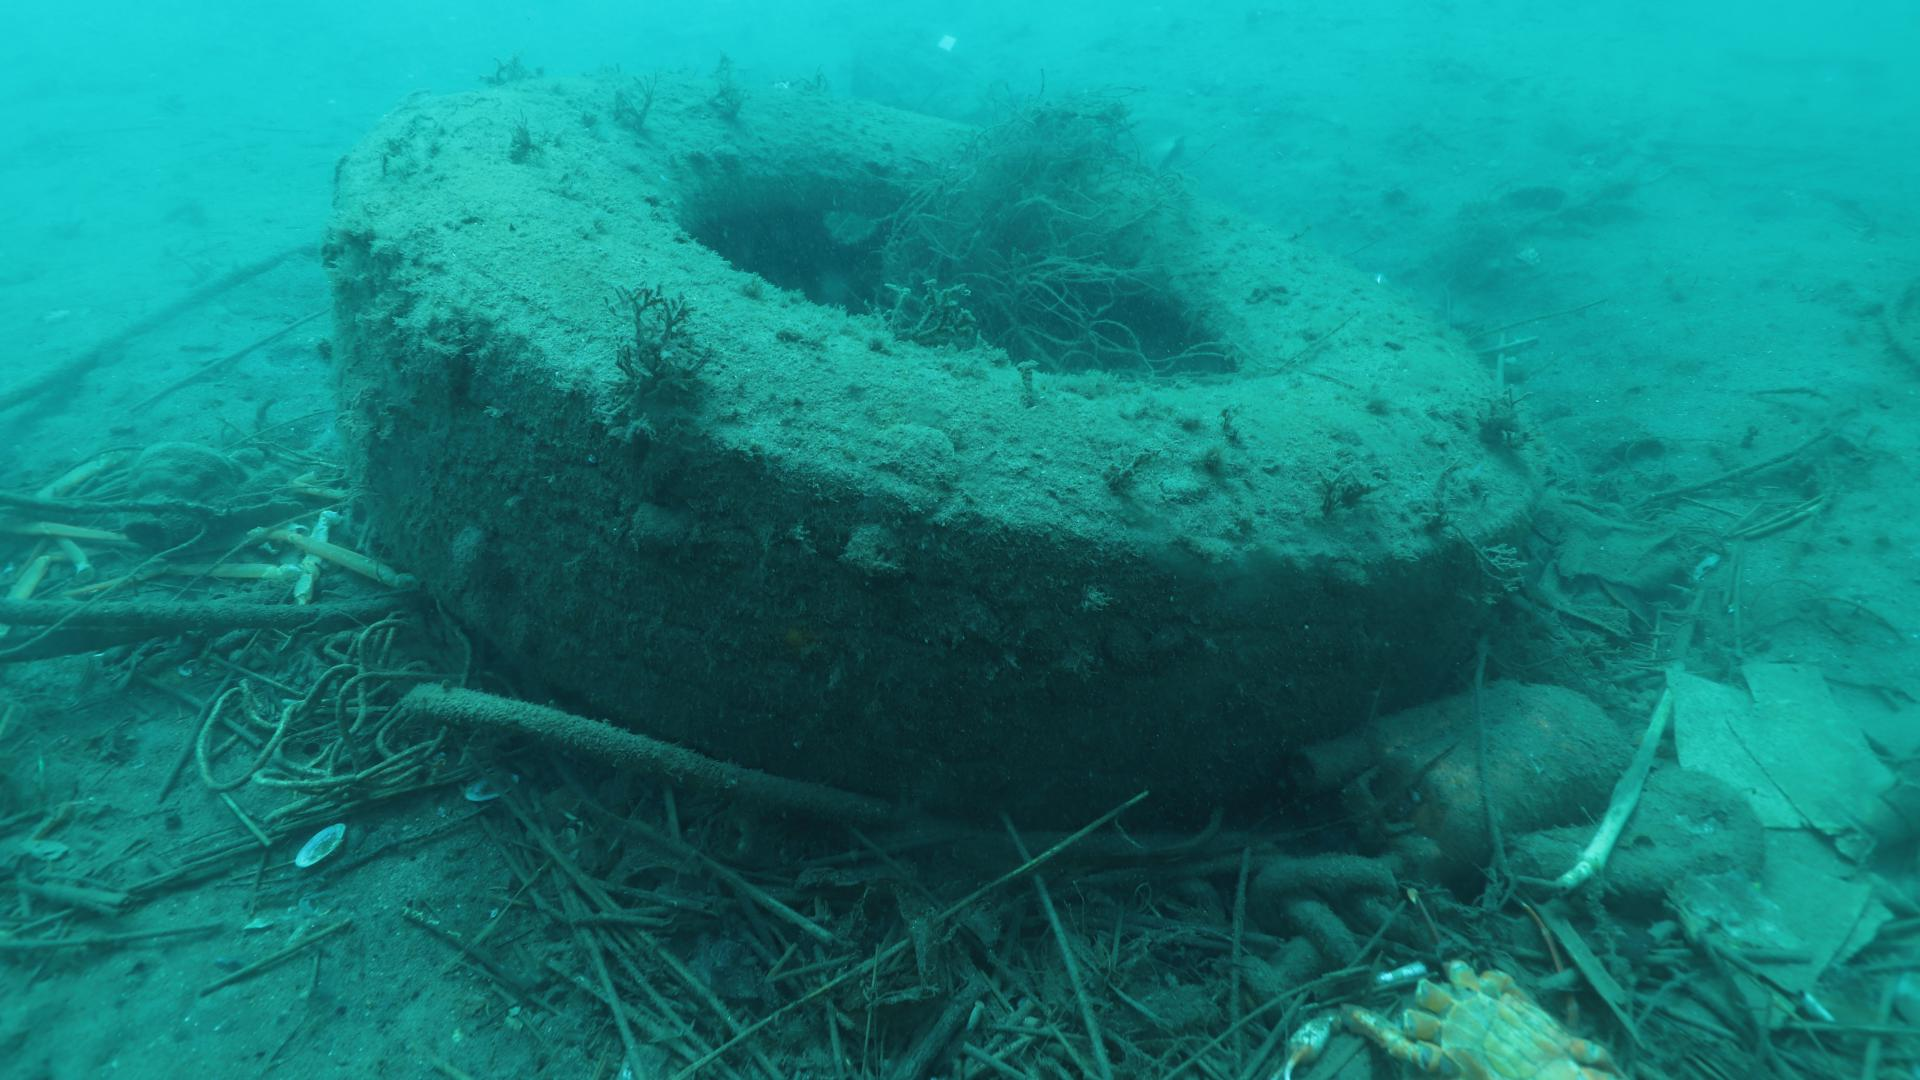rope: (0, 593, 400, 632)
tire: (324, 74, 1548, 825)
